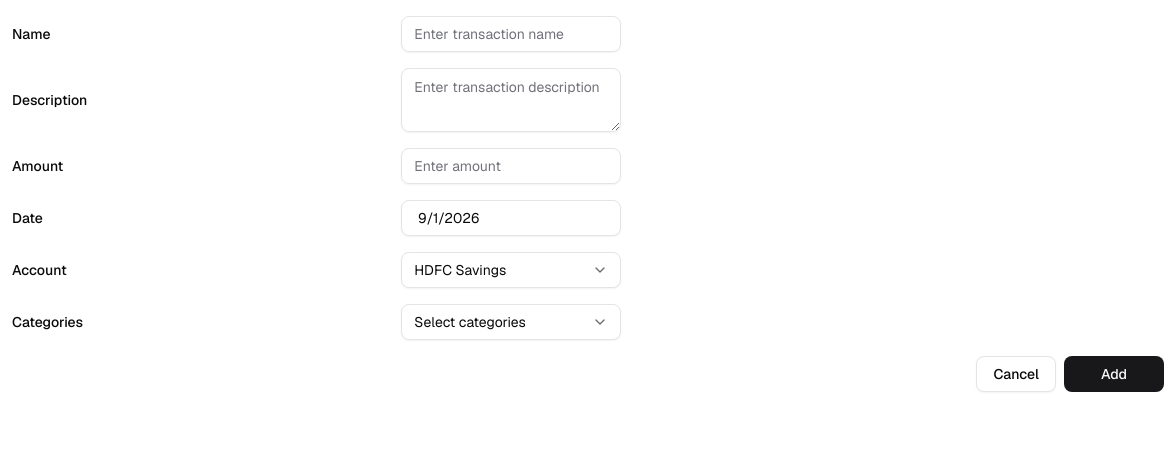
it: TransactionForm › renders category icons and falls back for missing ones
Click the button "Select categories" at (511, 322), box top-left (401, 304), bottom-right (621, 340)
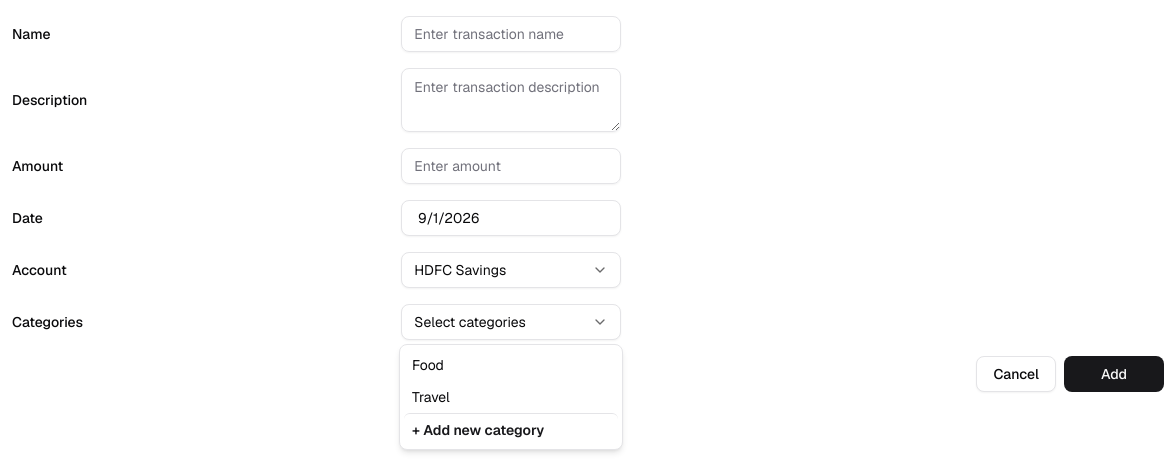
Result: the menu item "Food" is shown at top-left (412, 356), bottom-right (444, 374)
Result: the menu item "Travel" is shown at top-left (412, 388), bottom-right (450, 406)
